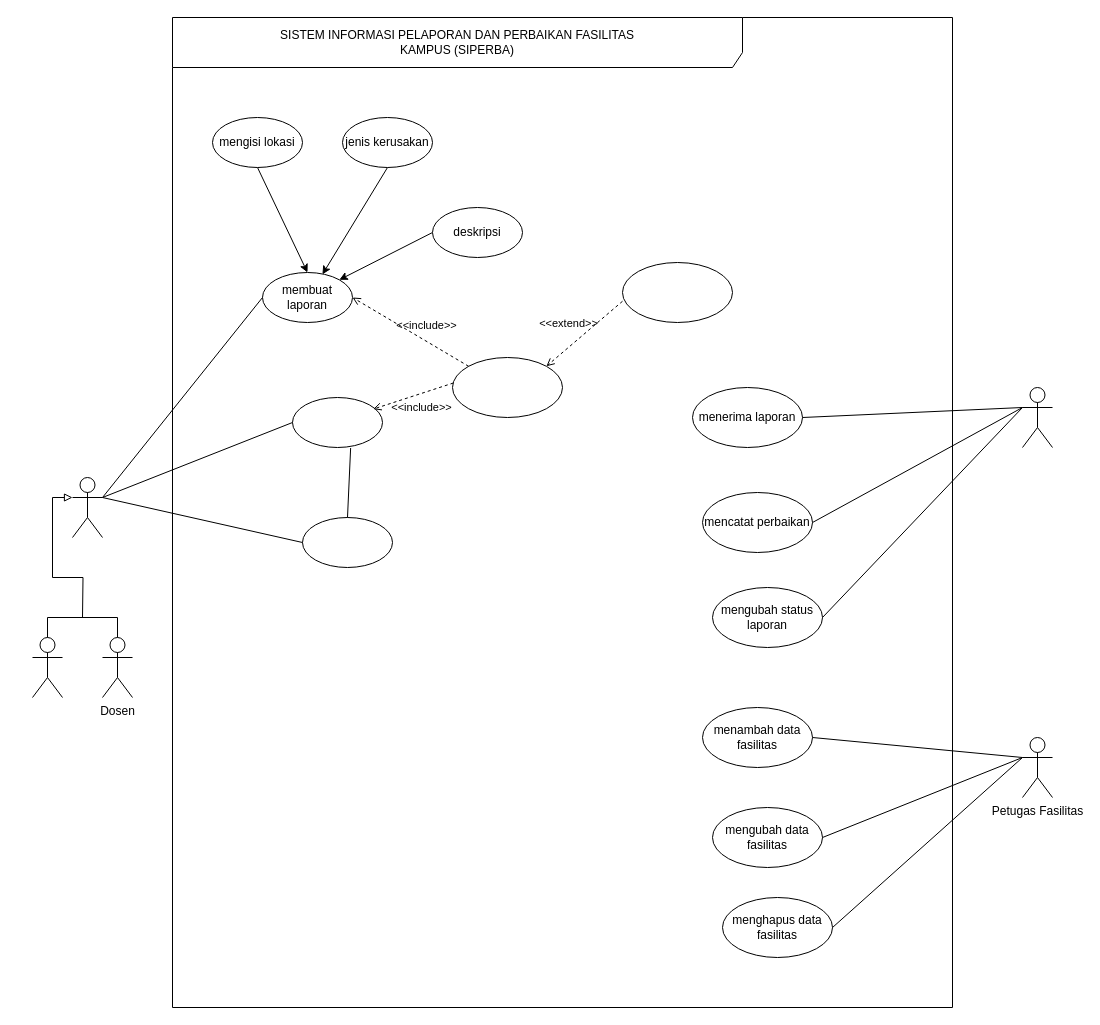
Image size: 1100x1025. Some labels were removed from this diagram. The shapes that lost their labels are listed below. From the top down, each one's centre as x and y in pixels, then its label:
At (x=677, y=292): "menyimpan laporan".
At (x=507, y=387): "memeriksa kelengkapan laporan".
At (x=337, y=422): "melihat status laporan".
At (x=1037, y=417): "Teknisi".
At (x=87, y=507): "Pelapor".
At (x=347, y=542): "verifikasi hasil perbaikan".
At (x=47, y=667): "Mahasiswa".
